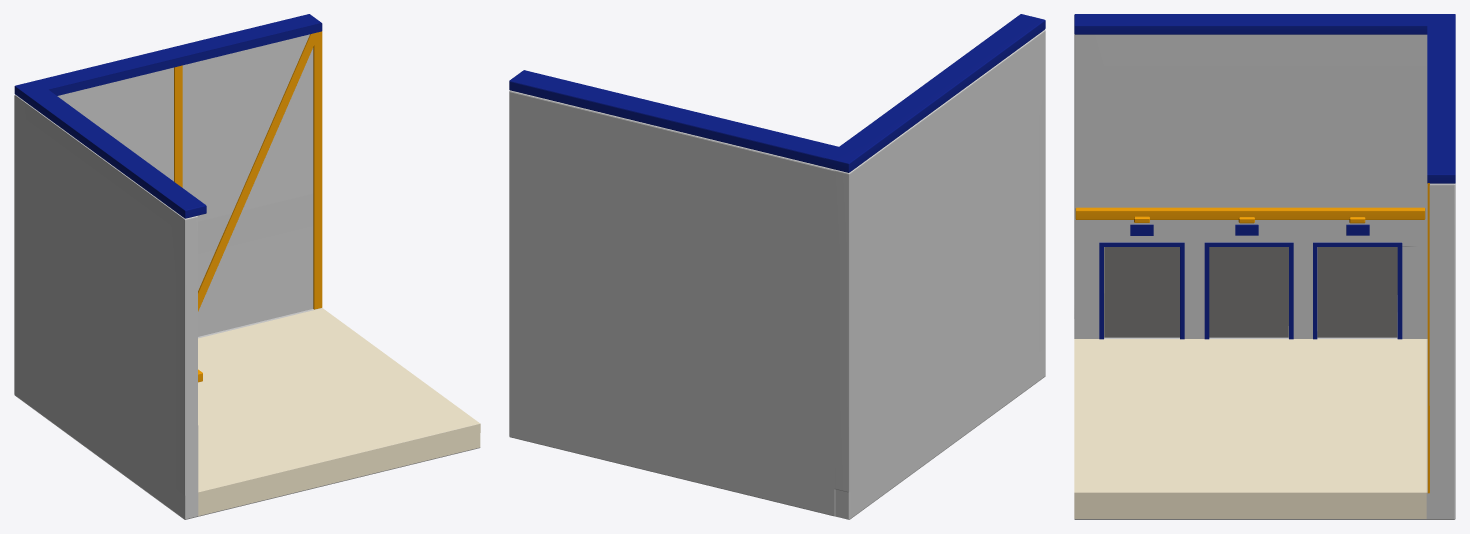
File: cube_one8.fbx
3 views of the same model, side by side, from view 1: azimuth 30°, elevation 25°; view 2: azimuth 150°, elevation 25°; view 3: azimuth 270°, elevation 25° (orthographic). The views are drawn at different scales.
Visible parts, largest first — view 1: polySurface51; view 2: polySurface51; view 3: polySurface51.
Part boxes in pixels (box(x1,y1,x2,y2)): polySurface51: box(14, 14, 480, 519); polySurface51: box(509, 14, 1045, 519); polySurface51: box(1074, 14, 1455, 519).
Size of the model in its own units: 6.49 by 6.5 by 6.5.
